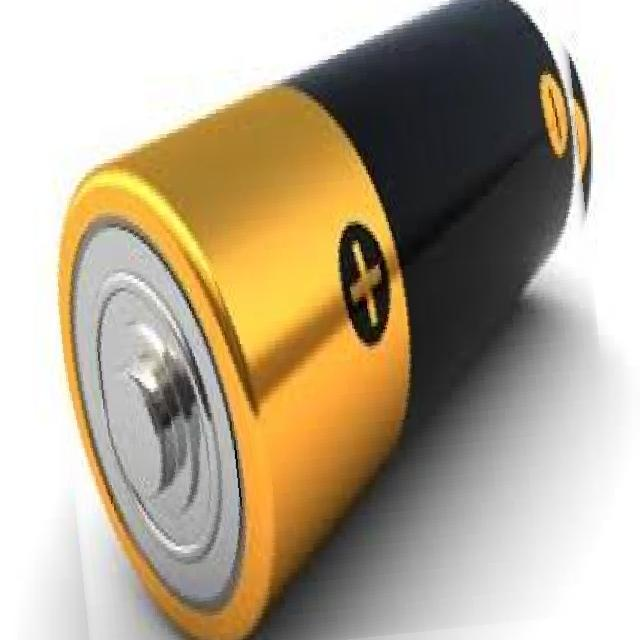Battery: (55, 0, 584, 638)
